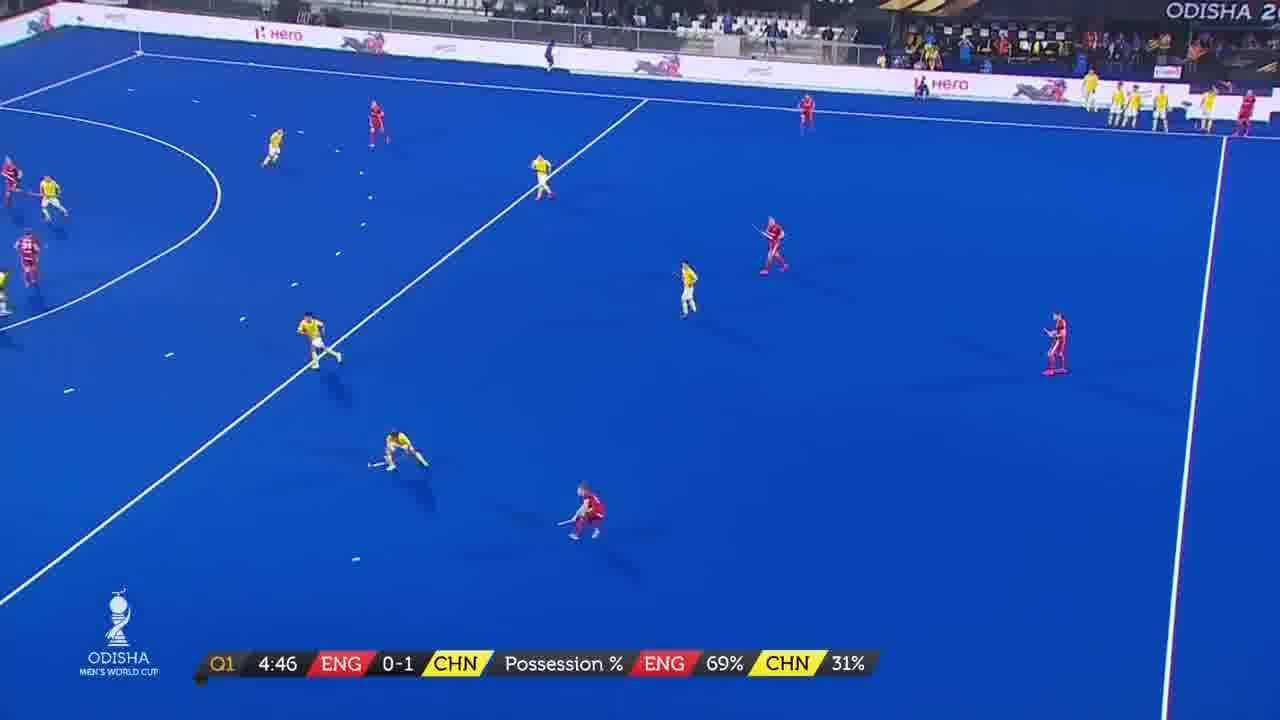ball: (344, 546, 368, 576)
